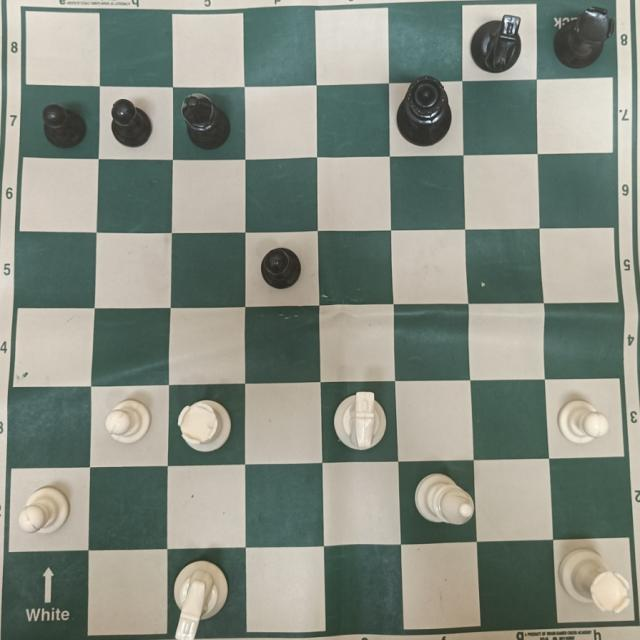black-bishop: (183, 93, 230, 150)
black-knight: (472, 14, 522, 71)
black-pawn: (110, 96, 153, 146), (41, 104, 88, 147), (262, 248, 301, 287)
black-queen: (400, 78, 450, 145)
black-rook: (559, 5, 613, 66)
white-bishop: (415, 469, 474, 526)
white-knight: (175, 561, 227, 640), (335, 392, 386, 453)
white-pawn: (560, 398, 608, 443), (21, 489, 68, 533), (105, 400, 150, 442)
white-rook: (562, 547, 631, 614), (180, 398, 230, 451)
